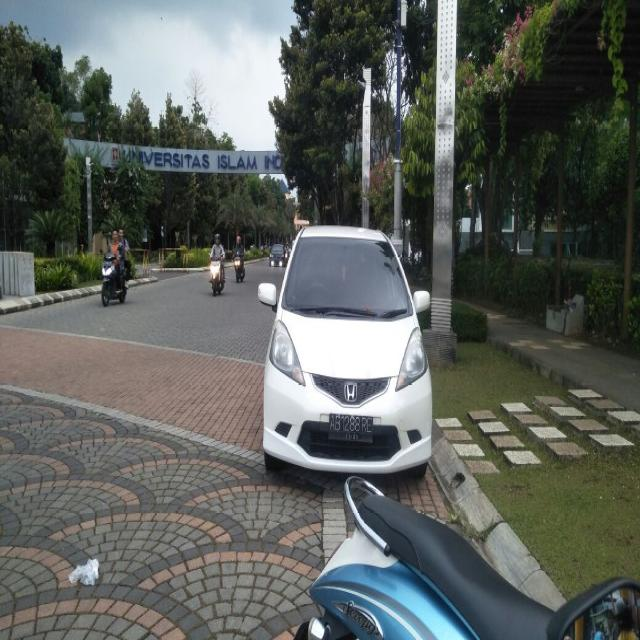plate: (327, 411, 373, 443)
